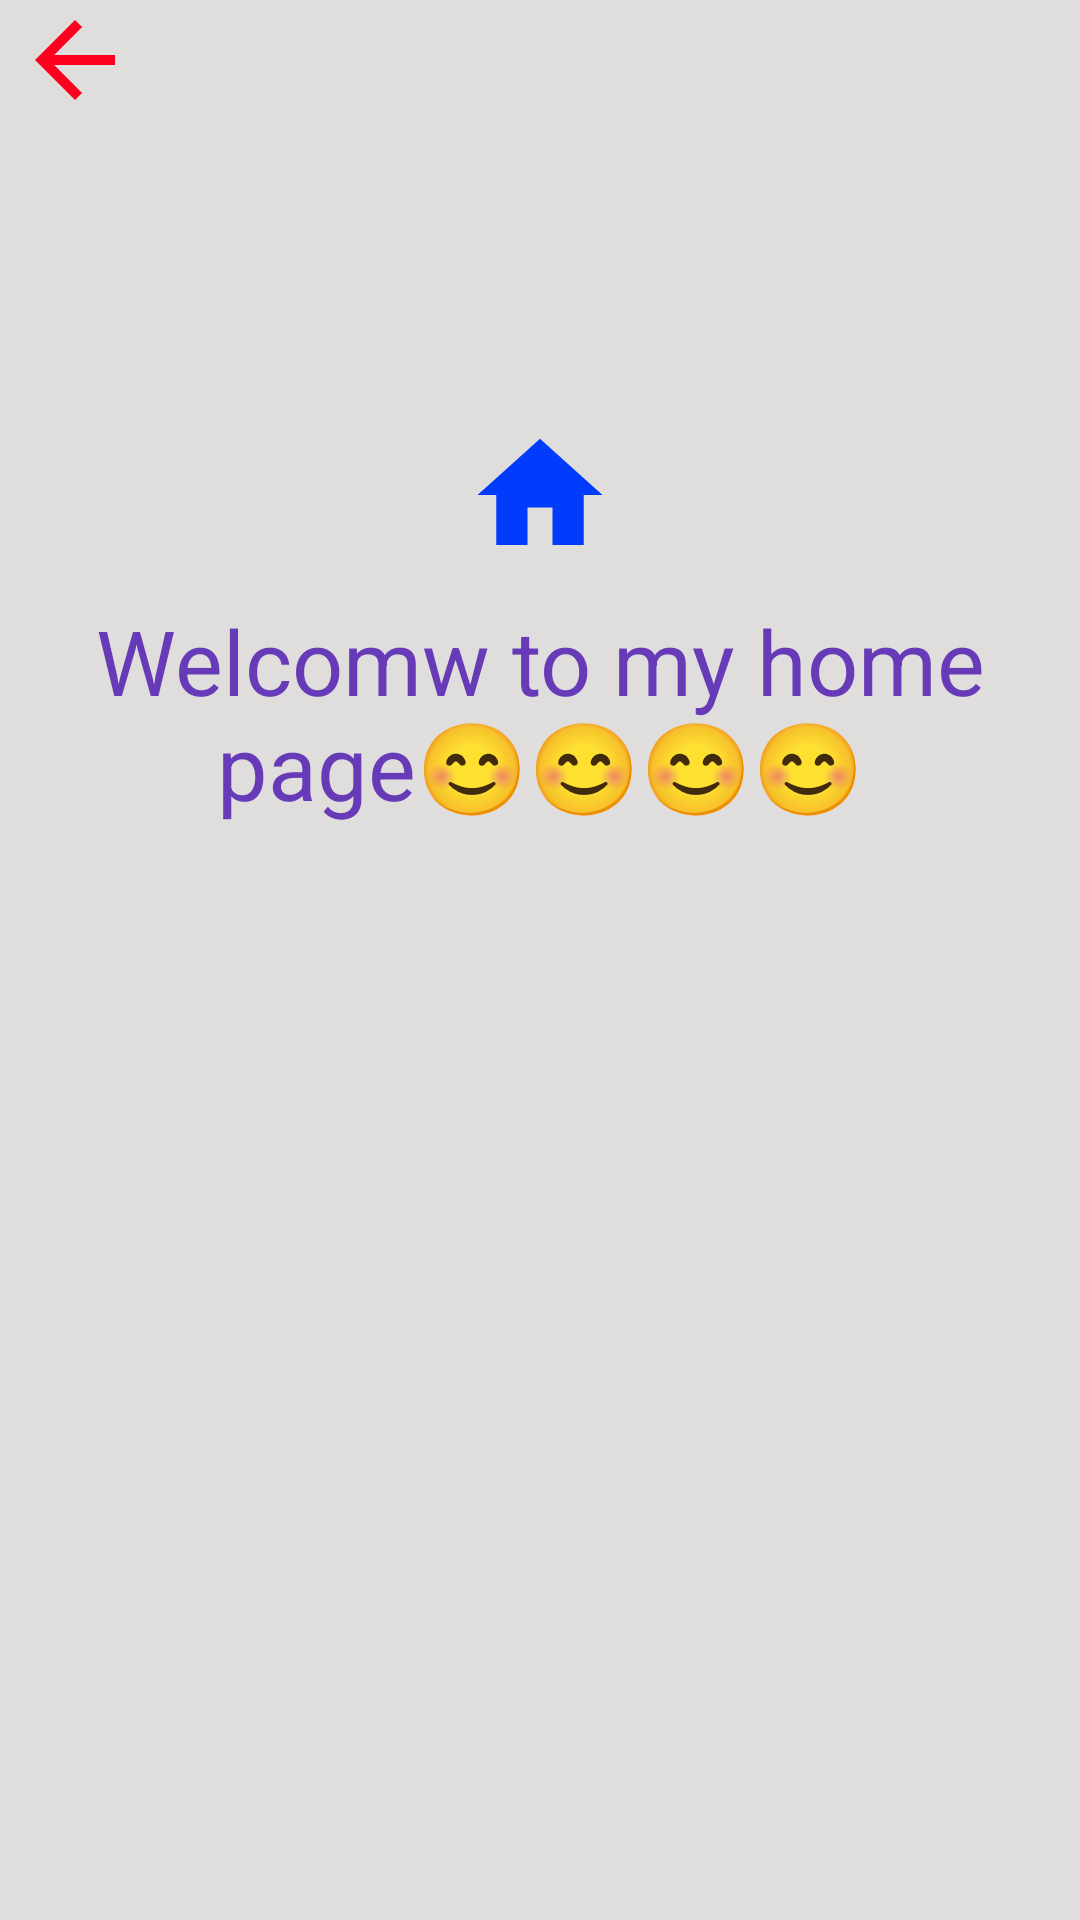

Icon click points for this 1080 x 1920 phone screenshot, format (x=x, y=y):
arrow back: (x=75, y=60)
